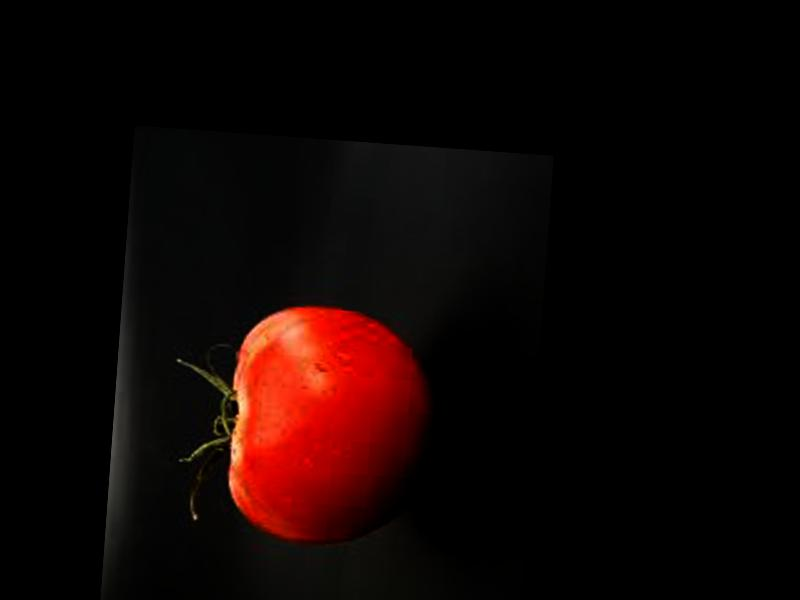Tomato: (222, 298, 439, 550)
